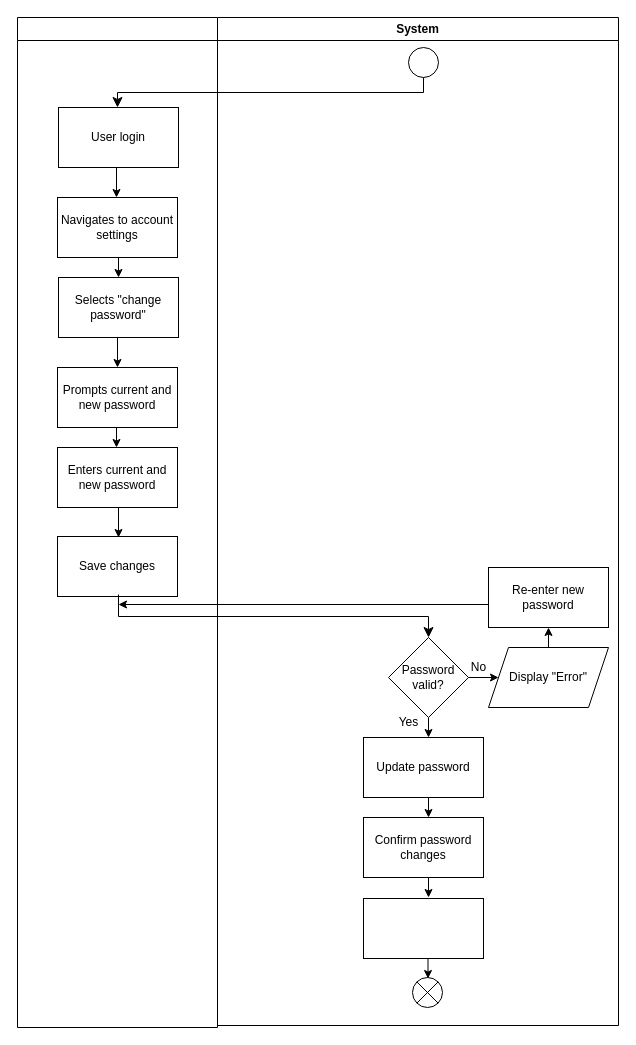
This 636x1045 diagram has some shape labels left out. The centre of each missing label's shape, as x and y in pixels:
Administrator,fellow,student,staff: point (117, 522)
Redirrected to account settings: point (423, 928)
